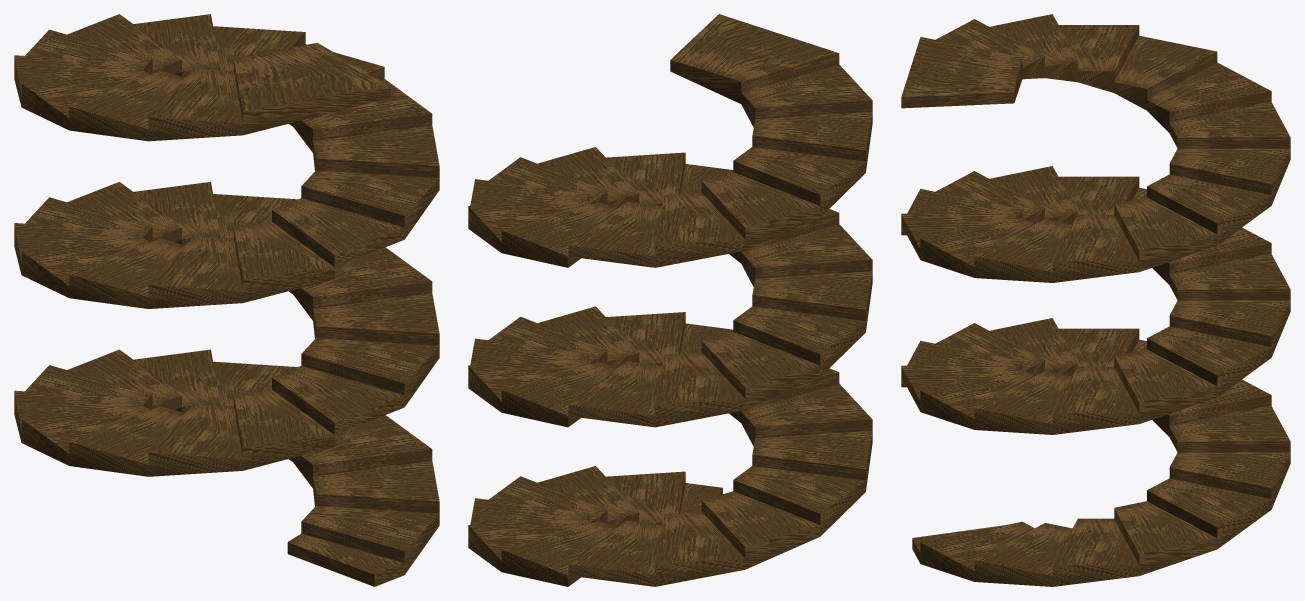
Rendered from SM_SPiralStairs 1.fbx.
3 renders of one model, left to right at view 1: azimuth 30°, elevation 25°; view 2: azimuth 150°, elevation 25°; view 3: azimuth 270°, elevation 25°, orthographic. The views are drawn at different scales.
Parts seen in each view (by area): view 1: SM_SPiralStairs; view 2: SM_SPiralStairs; view 3: SM_SPiralStairs.
Boxes of the visible parts, x1=… form: SM_SPiralStairs: x1=14, y1=14, x2=439, y2=586; SM_SPiralStairs: x1=468, y1=14, x2=872, y2=586; SM_SPiralStairs: x1=901, y1=14, x2=1290, y2=586.
Bounding box in the file's own units: 1058 × 1401 × 1085.
